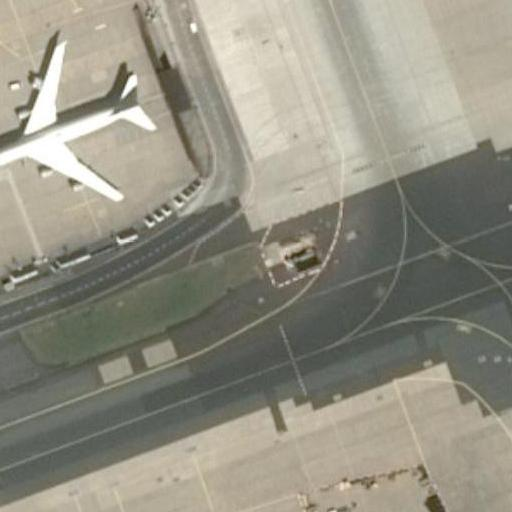Aircraft: (0, 28, 149, 209)
